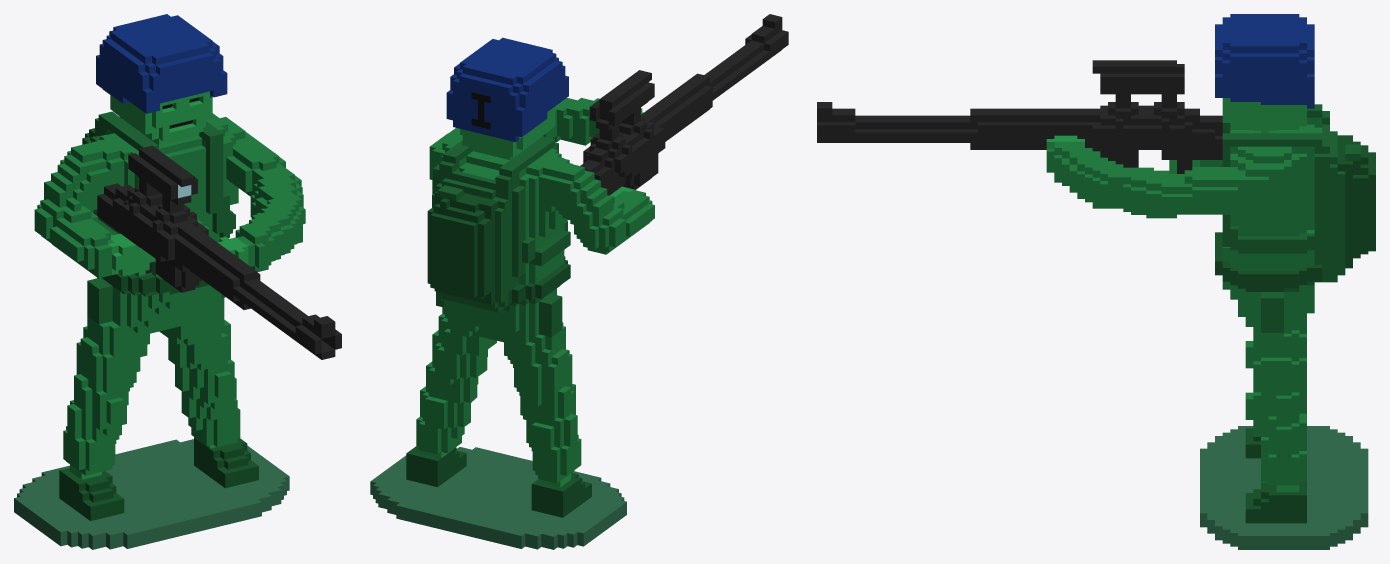
The model's file is snajper_soldier_LVL1_3.0.obj.
3 views of the same model, side by side, from view 1: azimuth 30°, elevation 25°; view 2: azimuth 150°, elevation 25°; view 3: azimuth 270°, elevation 25° (orthographic). The views are drawn at different scales.
Bounding box in the file's own units: 3.5 × 6.7 × 7.3.
Materials: 1 (1 with a texture image).
